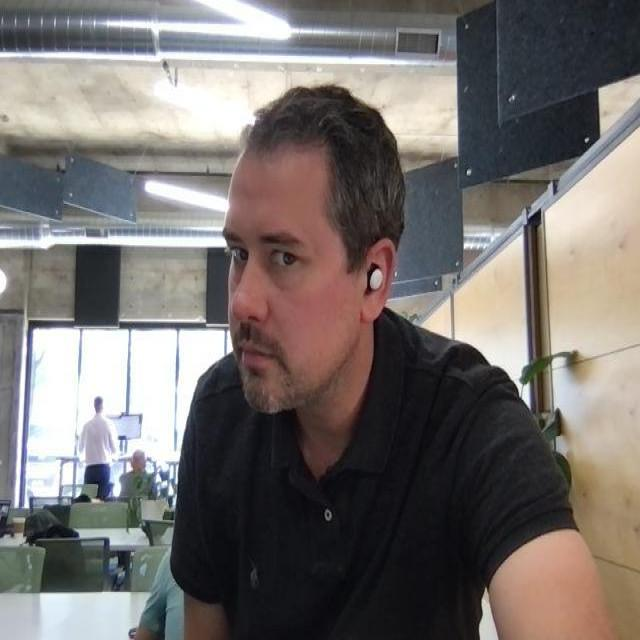face: (223, 83, 408, 425)
